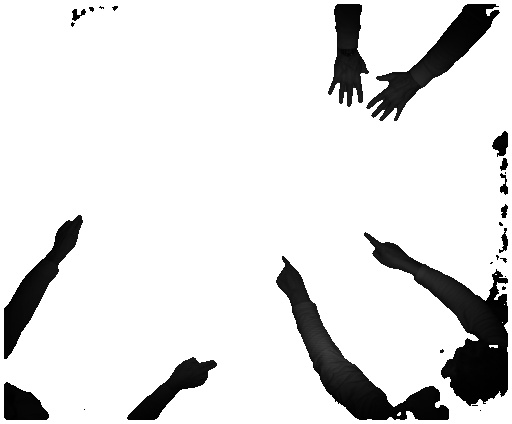hand: (367, 74, 417, 124), (360, 232, 413, 277), (328, 52, 370, 108), (51, 208, 87, 262), (172, 352, 223, 390), (272, 256, 308, 300)
